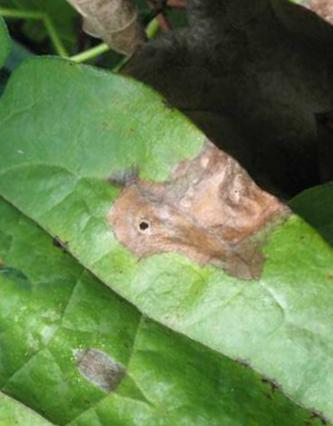Tomato leaf bacterial spot: (0, 20, 333, 426)
